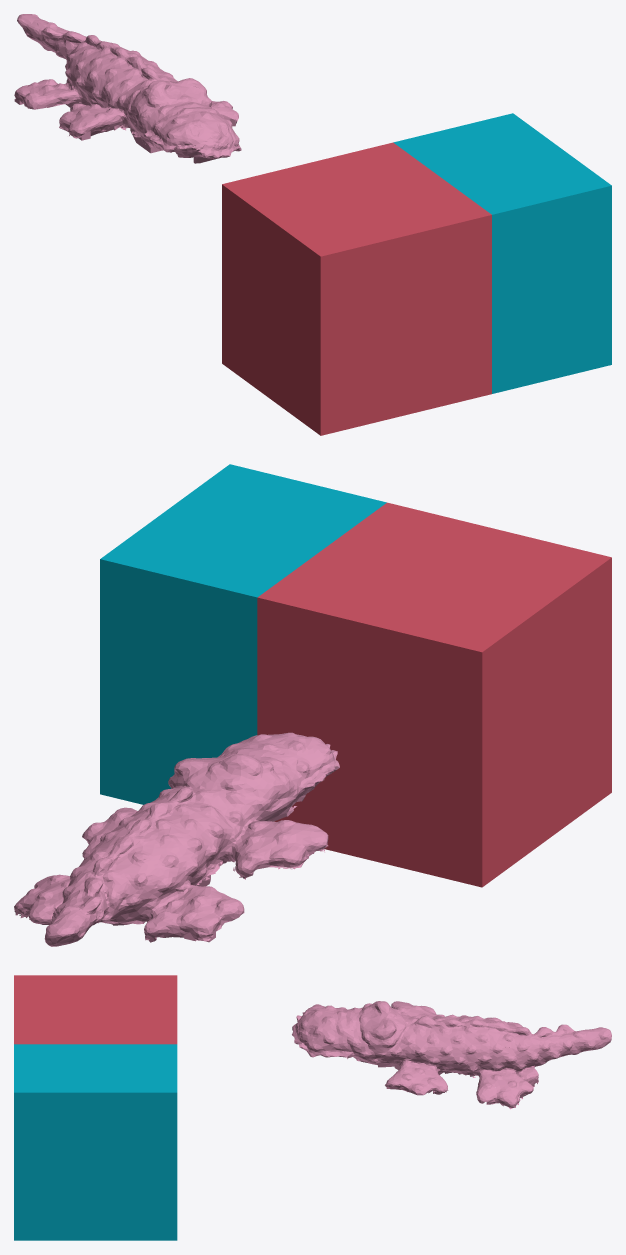
The model's file is tinker_croc.glb.
3 views of the same model, one above another, from view 1: azimuth 30°, elevation 25°; view 2: azimuth 150°, elevation 25°; view 3: azimuth 270°, elevation 25° (orthographic). The views are drawn at different scales.
Visible parts, largest first — view 1: Mesh_Mesh_head_geo.001_lambert2SG.001; view 2: Mesh_Mesh_head_geo.001_lambert2SG.001; view 3: Mesh_Mesh_head_geo.001_lambert2SG.001.
Part boxes in pixels (x1,y1,x2,y2): Mesh_Mesh_head_geo.001_lambert2SG.001: [14, 14, 611, 435]; Mesh_Mesh_head_geo.001_lambert2SG.001: [14, 464, 611, 946]; Mesh_Mesh_head_geo.001_lambert2SG.001: [14, 975, 611, 1240].
Size of the model in its own units: 36.01 by 20 by 73.22.
